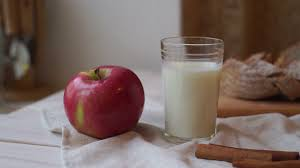apple: (59, 67, 149, 138)
